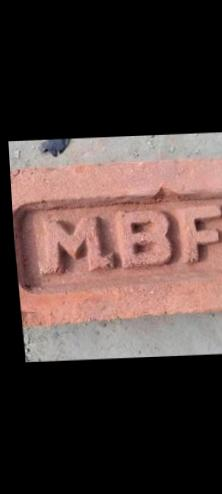brick: (10, 161, 222, 323)
